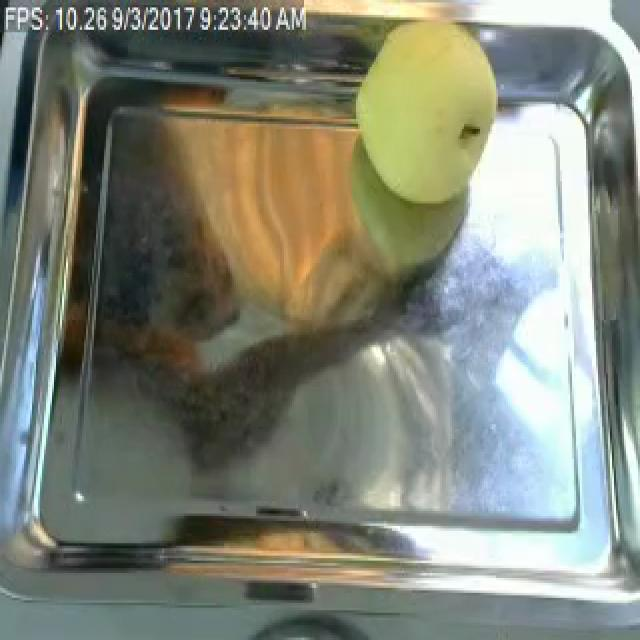Fruit: (144, 62, 468, 347), (344, 15, 514, 216)
